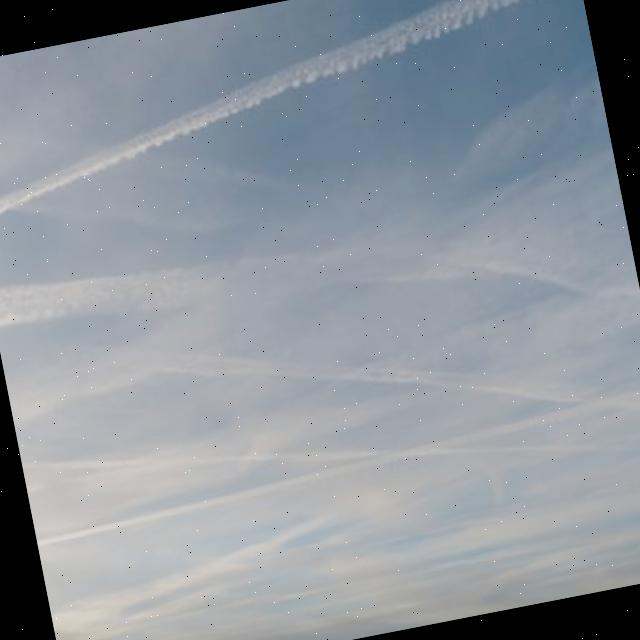Ct: (1, 1, 640, 625)
